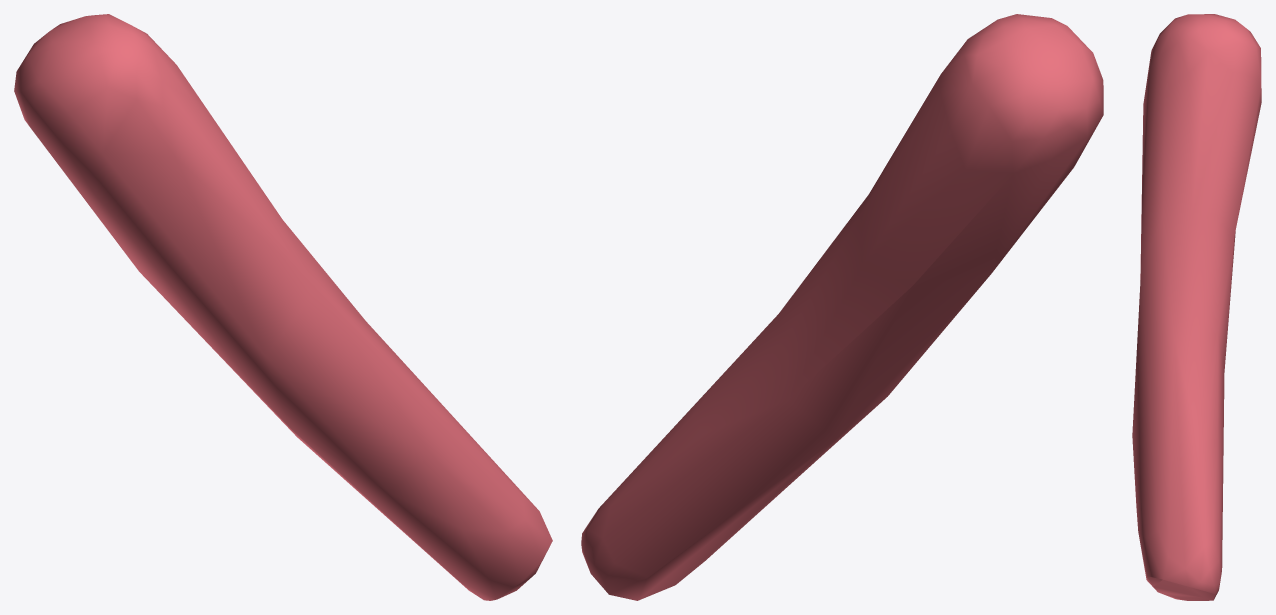
Rendered from fma8627_fj6066.glb.
3 views of the same model, side by side, from view 1: azimuth 30°, elevation 25°; view 2: azimuth 150°, elevation 25°; view 3: azimuth 270°, elevation 25° (orthographic). The views are drawn at different scales.
Parts seen in each view (by area): view 1: FMA8627_FJ6066; view 2: FMA8627_FJ6066; view 3: FMA8627_FJ6066.
Part boxes in pixels (x1,y1,x2,y2): FMA8627_FJ6066: (14, 14, 552, 600); FMA8627_FJ6066: (581, 14, 1103, 600); FMA8627_FJ6066: (1132, 14, 1261, 600).
Bounding box in the file's own units: 0.00668 × 0.00834 × 0.00214.
